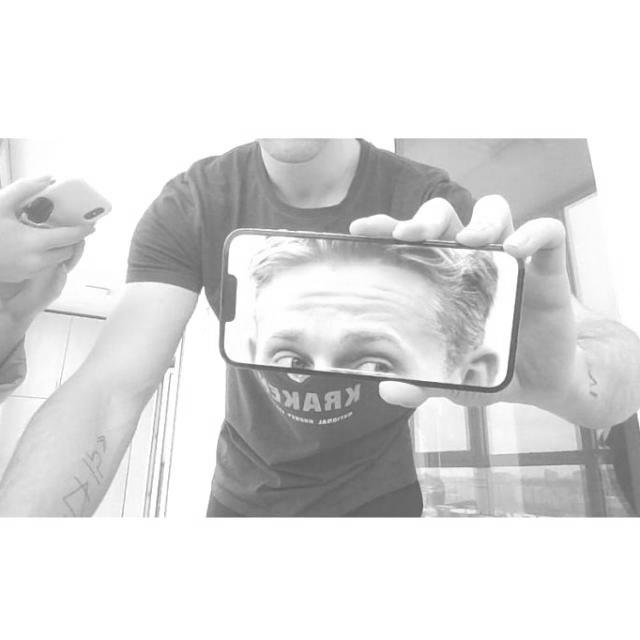fake: (216, 227, 528, 396)
